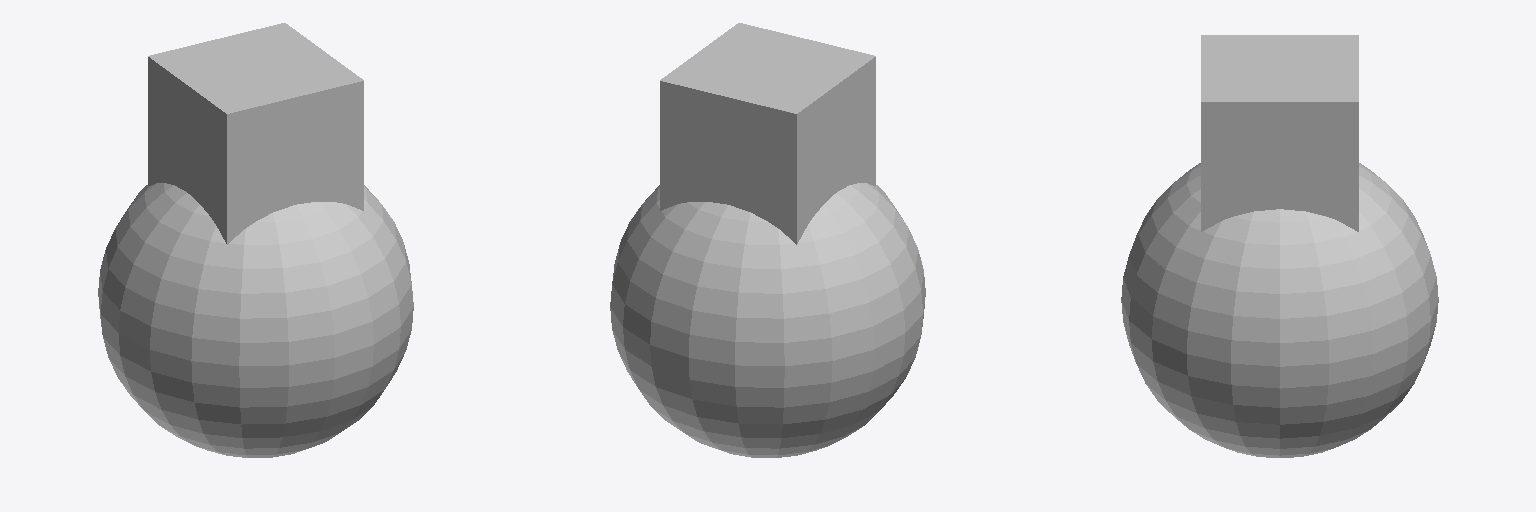
The model's file is normalCube.obj.
3 views of the same model, side by side, from view 1: azimuth 30°, elevation 25°; view 2: azimuth 150°, elevation 25°; view 3: azimuth 270°, elevation 25° (orthographic).
Visible parts, largest first — view 1: pSphere1, pCube1; view 2: pSphere1, pCube1; view 3: pSphere1, pCube1.
Part boxes in pixels (left/top/right/bottom): pSphere1: left=98, top=183, right=413, bottom=457; pCube1: left=148, top=23, right=363, bottom=244; pSphere1: left=610, top=183, right=925, bottom=457; pCube1: left=660, top=23, right=875, bottom=244; pSphere1: left=1121, top=163, right=1438, bottom=457; pCube1: left=1201, top=35, right=1358, bottom=231.
Bounding box in the file's own units: 2 × 2.61 × 2.